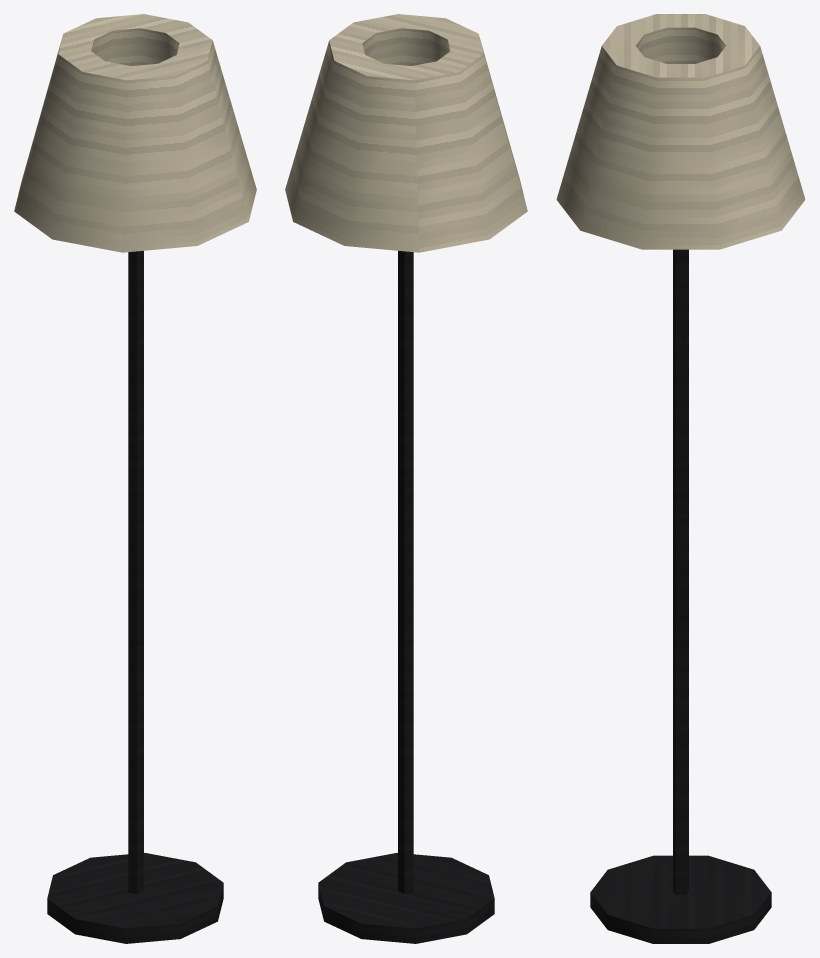
Rendered from luminaria_chao.glb.
3 views of the same model, side by side, from view 1: azimuth 30°, elevation 25°; view 2: azimuth 150°, elevation 25°; view 3: azimuth 270°, elevation 25° (orthographic).
Parts seen in each view (by area): view 1: Inteiro; view 2: Inteiro; view 3: Inteiro.
Boxes of the visible parts, bbox=[...] form: Inteiro: bbox=[14, 14, 256, 943]; Inteiro: bbox=[285, 14, 527, 943]; Inteiro: bbox=[556, 14, 805, 943].
Size of the model in its own units: 0.4185 by 1.68 by 0.44.
1 material, 1 textured.
